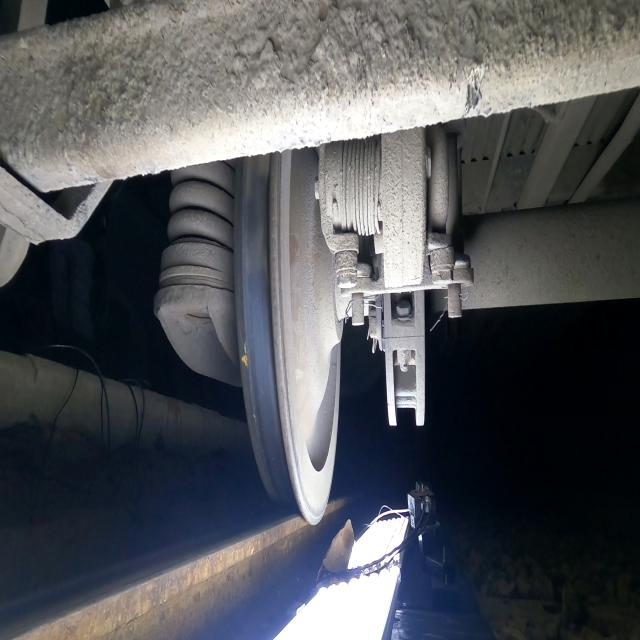Cracks-Scratches: (241, 341, 248, 367)
Shelling: (243, 158, 270, 272)
Wheel: (234, 149, 342, 525)
